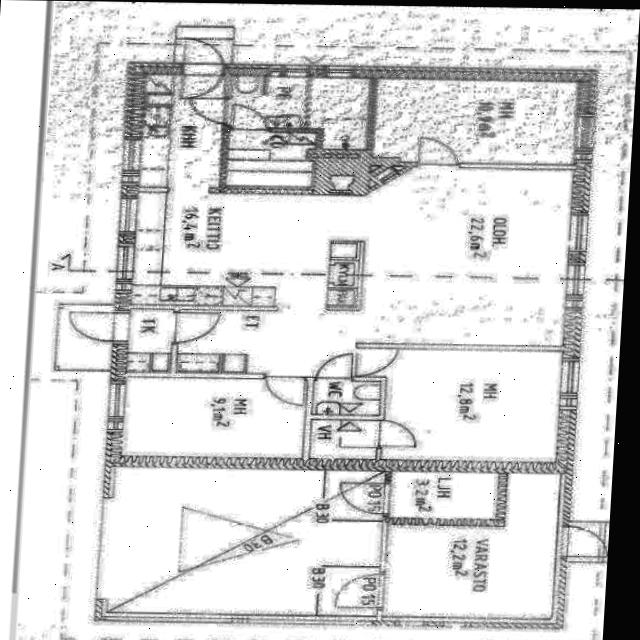room: (382, 473, 559, 618), (354, 348, 560, 463), (373, 78, 576, 166), (121, 377, 303, 458), (388, 471, 498, 519), (230, 76, 303, 128), (126, 307, 171, 375), (309, 419, 377, 459), (311, 380, 379, 416)
